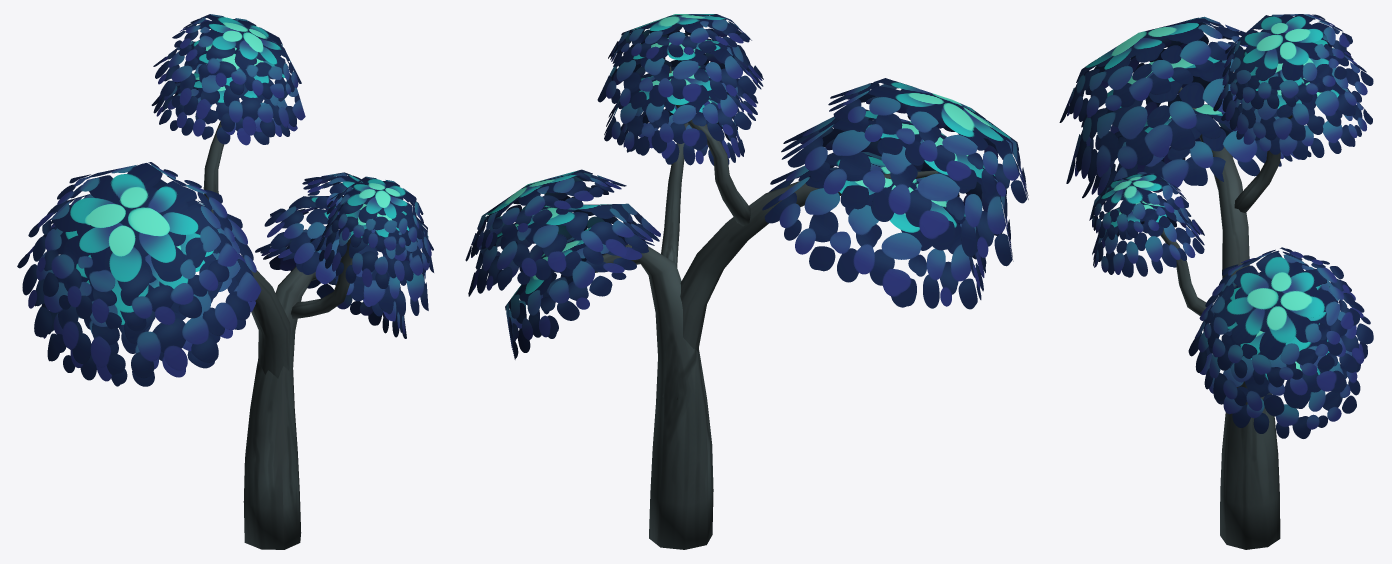
The model's file is TreeBlue01.fbx.
The picture shows the model from 3 angles, left to right: view 1: azimuth 30°, elevation 25°; view 2: azimuth 150°, elevation 25°; view 3: azimuth 270°, elevation 25°; orthographic projection. The views are drawn at different scales.
Parts seen in each view (by area): view 1: BlueLeaf.040, BlueLeaf.039, Log1.004, BlueLeaf.043, BlueLeaf.042, BlueLeaf.036, BlueLeaf.034, BlueLeaf.033, BlueLeaf.038, BlueLeaf.041, Branch1.004, BlueLeaf.035 (+3 smaller); view 2: Log1.004, BlueLeaf.038, BlueLeaf.039, BlueLeaf.040, BlueLeaf.036, BlueLeaf.042, BlueLeaf.035, BlueLeaf.041, Branch1.004, BlueLeaf.037, BlueLeaf.043, BlueLeaf.033 (+2 smaller); view 3: BlueLeaf.037, BlueLeaf.039, BlueLeaf.040, BlueLeaf.043, Log1.004, BlueLeaf.036, BlueLeaf.042, BlueLeaf.038, BlueLeaf.035, BlueLeaf.033, BlueLeaf.034, BlueLeaf.041 (+3 smaller).
Boxes of the visible parts, x1,y1,x2,y2 form: BlueLeaf.040: [28, 162, 238, 331]; BlueLeaf.039: [17, 179, 261, 378]; Log1.004: [243, 266, 316, 549]; BlueLeaf.043: [172, 14, 301, 99]; BlueLeaf.042: [153, 40, 305, 137]; BlueLeaf.036: [264, 196, 428, 316]; BlueLeaf.034: [326, 176, 423, 251]; BlueLeaf.033: [315, 202, 433, 288]; BlueLeaf.038: [34, 253, 255, 386]; BlueLeaf.041: [151, 71, 297, 145]; Branch1.004: [241, 255, 290, 378]; BlueLeaf.035: [255, 229, 406, 338]; Log1.004: [545, 244, 713, 549]; BlueLeaf.038: [762, 152, 986, 309]; BlueLeaf.039: [781, 109, 1013, 266]; BlueLeaf.040: [828, 78, 1028, 203]; BlueLeaf.036: [468, 203, 660, 296]; BlueLeaf.042: [597, 36, 763, 109]; BlueLeaf.035: [505, 227, 654, 359]; BlueLeaf.041: [604, 64, 757, 154]; Branch1.004: [662, 170, 938, 399]; BlueLeaf.037: [465, 169, 626, 261]; BlueLeaf.043: [608, 14, 751, 63]; BlueLeaf.033: [620, 96, 744, 165]; BlueLeaf.037: [1199, 247, 1359, 387]; BlueLeaf.039: [1066, 52, 1242, 183]; BlueLeaf.040: [1059, 16, 1247, 122]; BlueLeaf.043: [1222, 14, 1352, 109]; Log1.004: [1220, 381, 1280, 549]; BlueLeaf.036: [1188, 271, 1373, 416]; BlueLeaf.042: [1213, 35, 1373, 140]; BlueLeaf.038: [1082, 104, 1311, 198]; BlueLeaf.035: [1200, 313, 1367, 438]; BlueLeaf.033: [1092, 199, 1204, 277]; BlueLeaf.034: [1089, 173, 1188, 240]; BlueLeaf.041: [1221, 78, 1372, 159].
Bounding box in the file's own units: 854 × 927 × 533.
